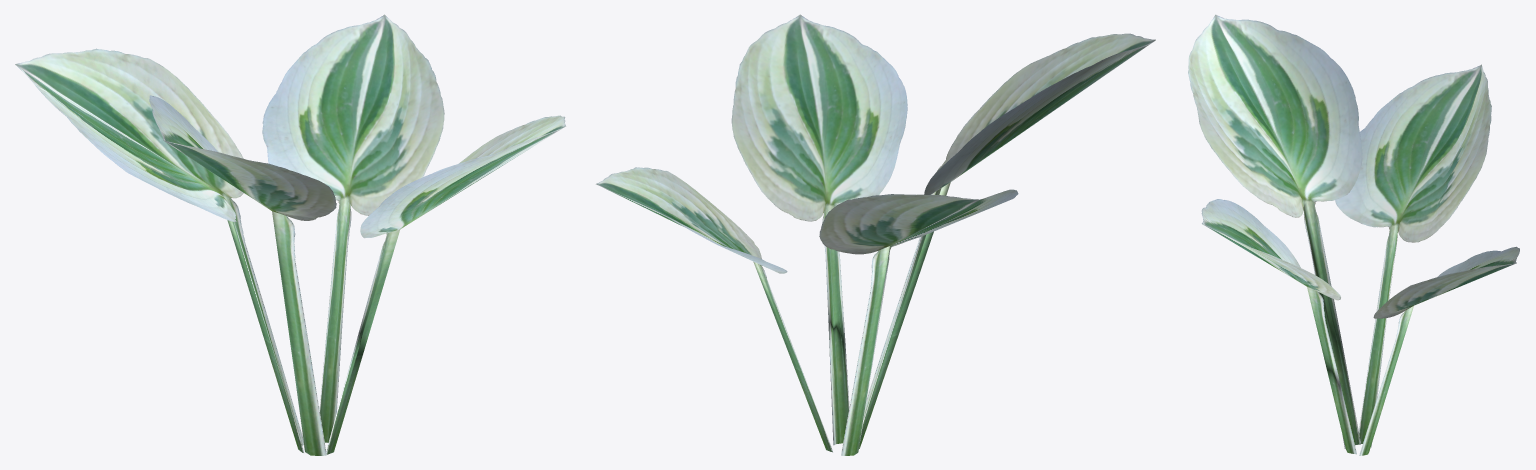
File: plant_small_wg_01E.fbx
3 views of the same model, side by side, from view 1: azimuth 30°, elevation 25°; view 2: azimuth 150°, elevation 25°; view 3: azimuth 270°, elevation 25° (orthographic). The views are drawn at different scales.
Visible parts, largest first — view 1: plant_small_wg_01E; view 2: plant_small_wg_01E; view 3: plant_small_wg_01E.
Part boxes in pixels (box(x1,y1,x2,y2)): plant_small_wg_01E: box(15, 14, 565, 455); plant_small_wg_01E: box(596, 14, 1155, 455); plant_small_wg_01E: box(1188, 14, 1519, 455).
Bounding box in the file's own units: 38.59 × 38.07 × 34.01.
